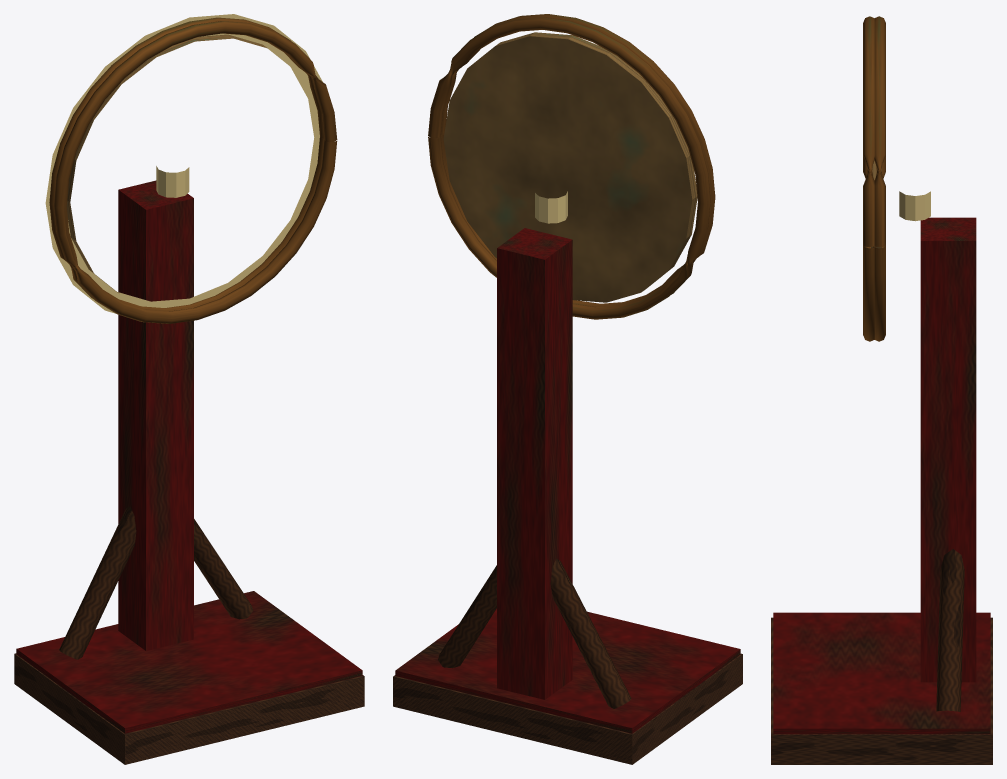
Rendered from mirror_stand.glb.
The picture shows the model from 3 angles, left to right: view 1: azimuth 30°, elevation 25°; view 2: azimuth 150°, elevation 25°; view 3: azimuth 270°, elevation 25°; orthographic projection.
Parts seen in each view (by area): view 1: Post, Art_BurntLacquer, Art_OxidizedBrass_Mirror, Base, Art_WarmWood, Frame, Mirror, Knob; view 2: Mirror, Post, Art_BurntLacquer, Art_OxidizedBrass_Mirror, Base, Art_WarmWood, Knob; view 3: Post, Art_BurntLacquer, Base, Art_OxidizedBrass_Mirror, Art_WarmWood, Knob.
Boxes of the visible parts, <box> form: Post: <box>118,180,193,650</box>; Art_BurntLacquer: <box>16,591,362,733</box>; Art_OxidizedBrass_Mirror: <box>49,17,337,323</box>; Base: <box>14,653,364,764</box>; Art_WarmWood: <box>59,506,252,659</box>; Frame: <box>45,14,322,313</box>; Mirror: <box>66,34,267,292</box>; Knob: <box>156,166,189,197</box>; Mirror: <box>443,32,697,302</box>; Post: <box>497,228,572,699</box>; Art_BurntLacquer: <box>395,608,740,733</box>; Art_OxidizedBrass_Mirror: <box>428,14,715,319</box>; Base: <box>393,653,742,764</box>; Art_WarmWood: <box>438,558,631,708</box>; Knob: <box>535,191,567,223</box>; Post: <box>920,217,976,682</box>; Art_BurntLacquer: <box>773,612,990,734</box>; Base: <box>771,617,992,764</box>; Art_OxidizedBrass_Mirror: <box>863,16,885,341</box>; Art_WarmWood: <box>936,549,964,711</box>; Knob: <box>899,191,930,221</box>.
Size of what is drawn, in the model's own units: 0.6 by 1.35 by 0.4.
Materials: 7 (6 with a texture image).
